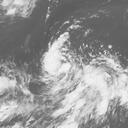cyclone: (40, 48, 65, 76)
